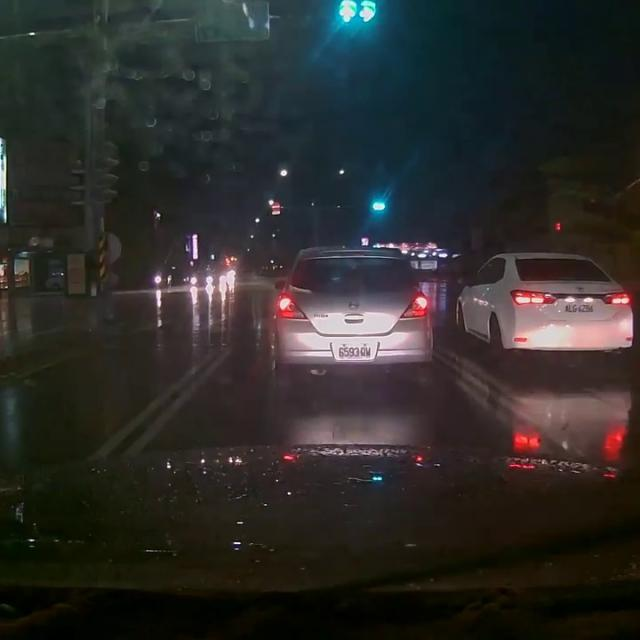Car: (266, 243, 433, 376), (451, 247, 632, 356)
